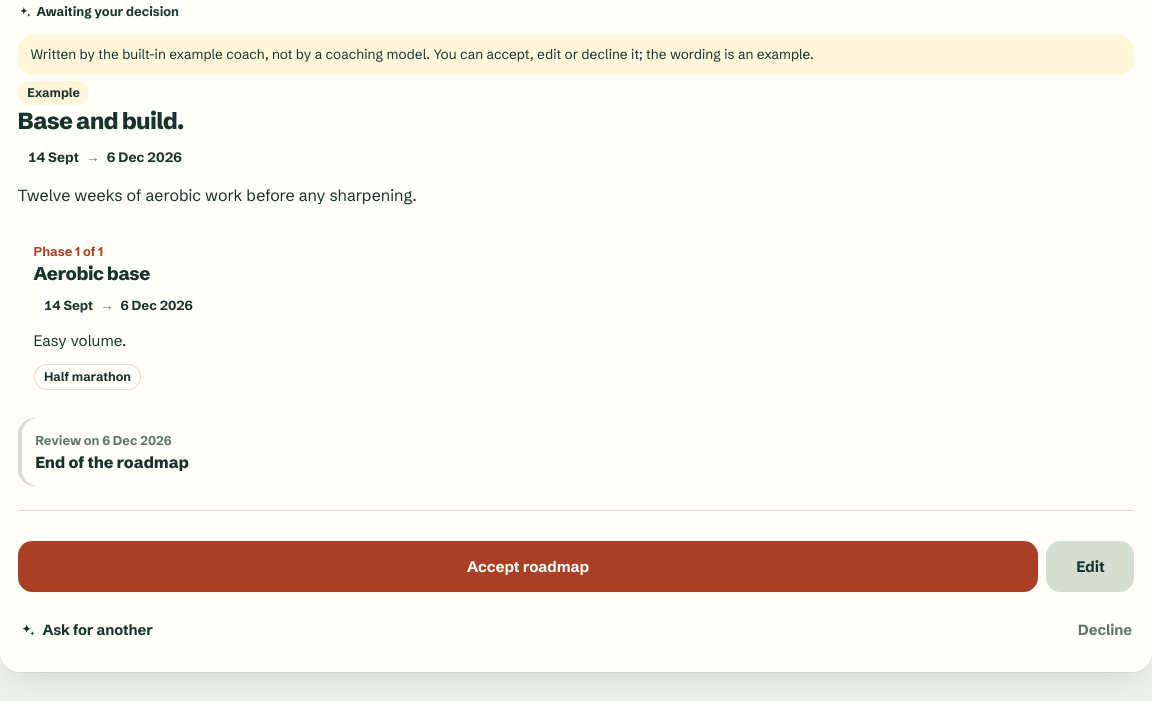
Test case: what the dock shows (owner, 14 Oct 2026) › shows the form and nothing of the proposal while it is edited
Check: the heading "Base and build." is shown, box 18,106 -> 184,135
Click the button "Edit". click: point(1090, 567)
box: 1046,541 -> 1134,592
(page scrolled)
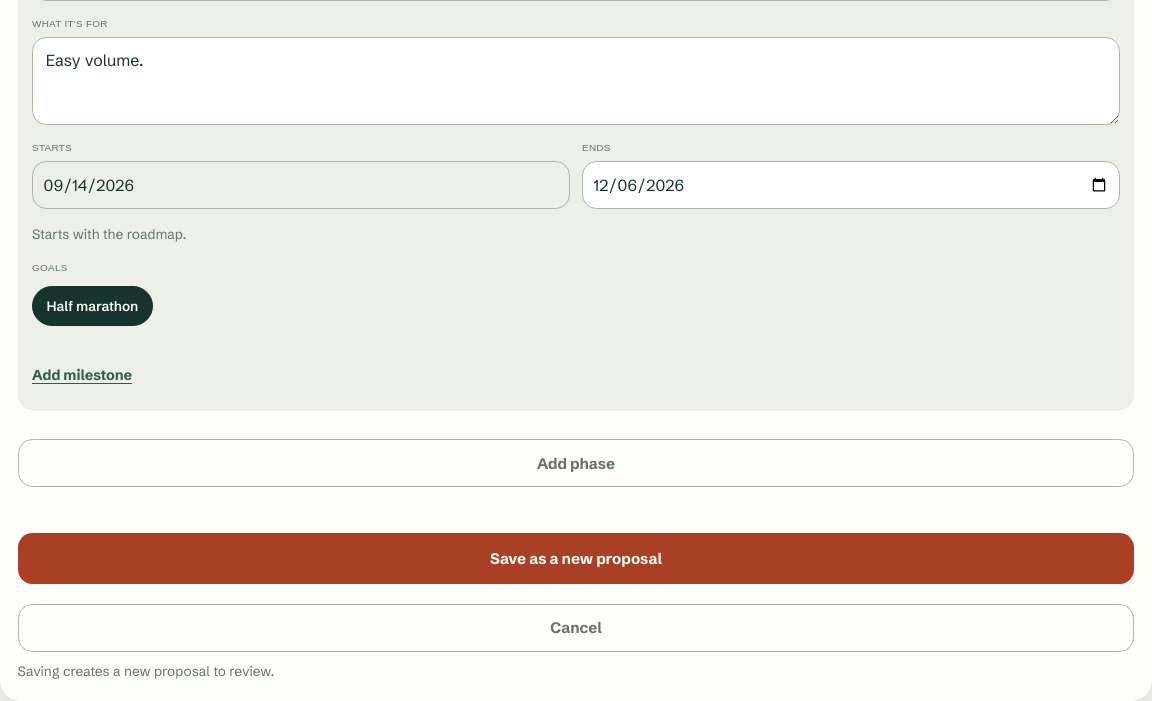
Check: the heading "Base and build." is gone
Check: the button "Accept roadmap" is gone
Click the button "Cancel". click: point(576, 628)
box: 18,604 -> 1134,652
(page scrolled)
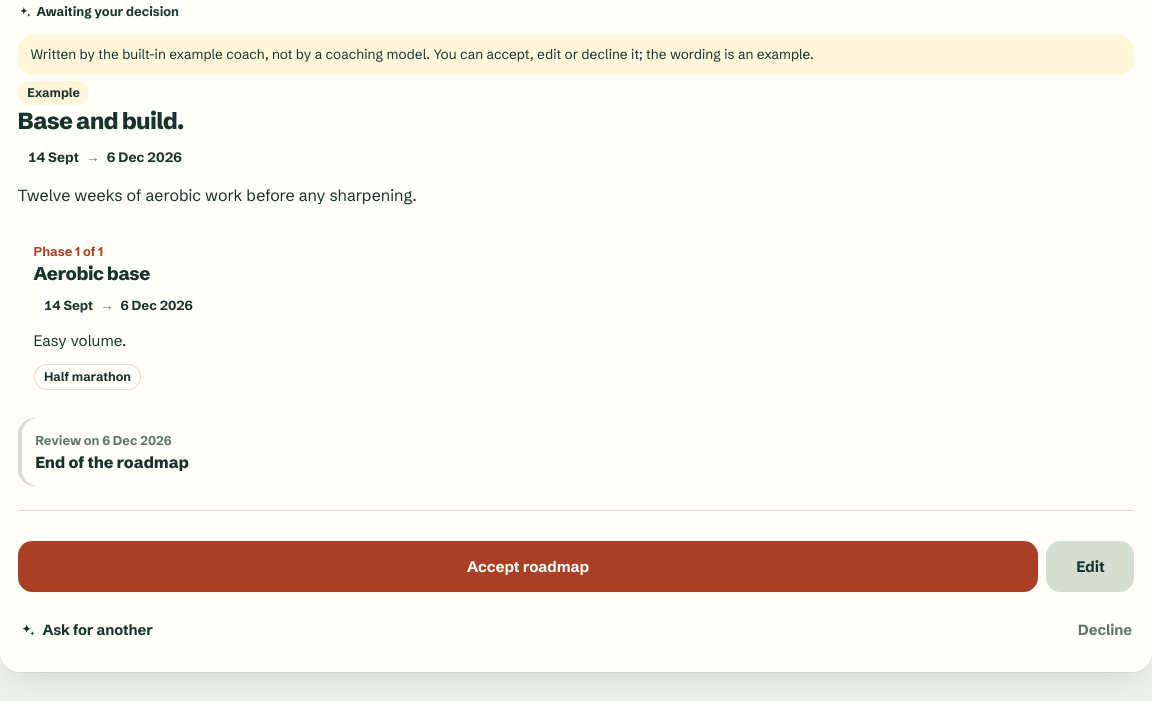
Check: the heading "Base and build." is shown, box 18,106 -> 184,135
